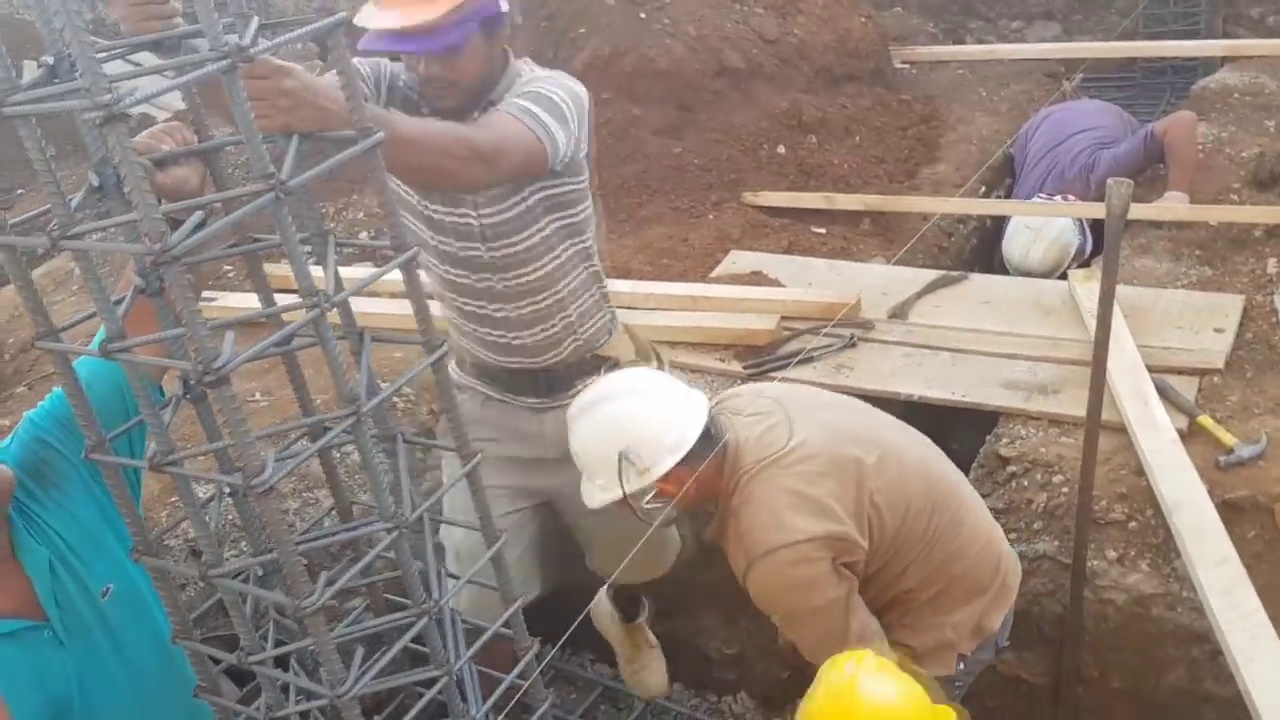helmet: (570, 366, 703, 537), (795, 654, 952, 716), (1003, 202, 1078, 281)
helmet-on: (568, 357, 746, 550), (348, 0, 520, 125), (1006, 200, 1105, 288)
person: (329, 0, 601, 695), (556, 360, 1032, 719), (0, 125, 212, 719), (1000, 101, 1203, 288)
